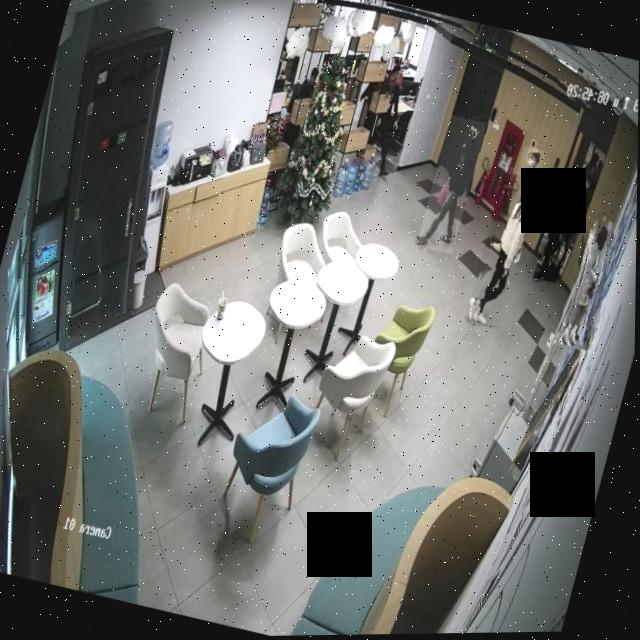person: (466, 173, 540, 333), (416, 115, 487, 256), (555, 219, 625, 355), (534, 171, 585, 285), (507, 148, 546, 219)
